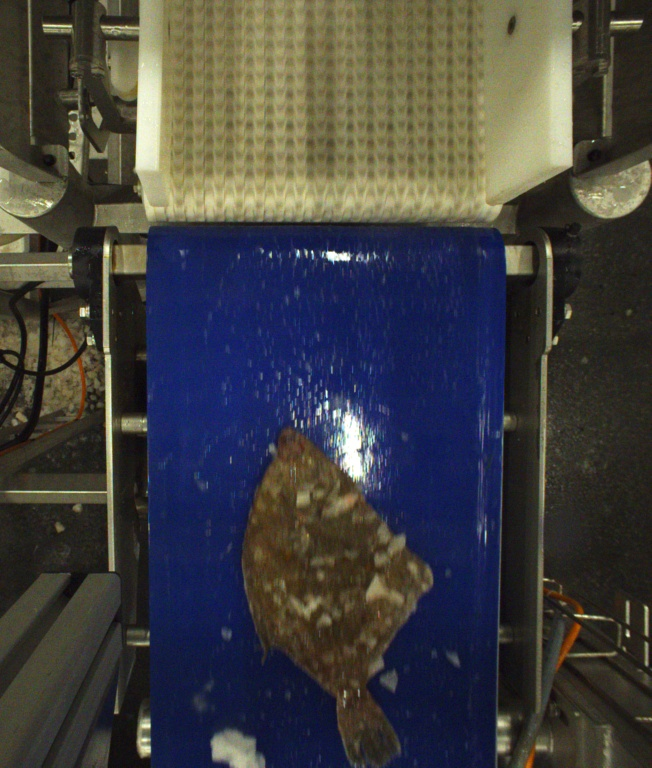PLE: (238, 428, 435, 768)
